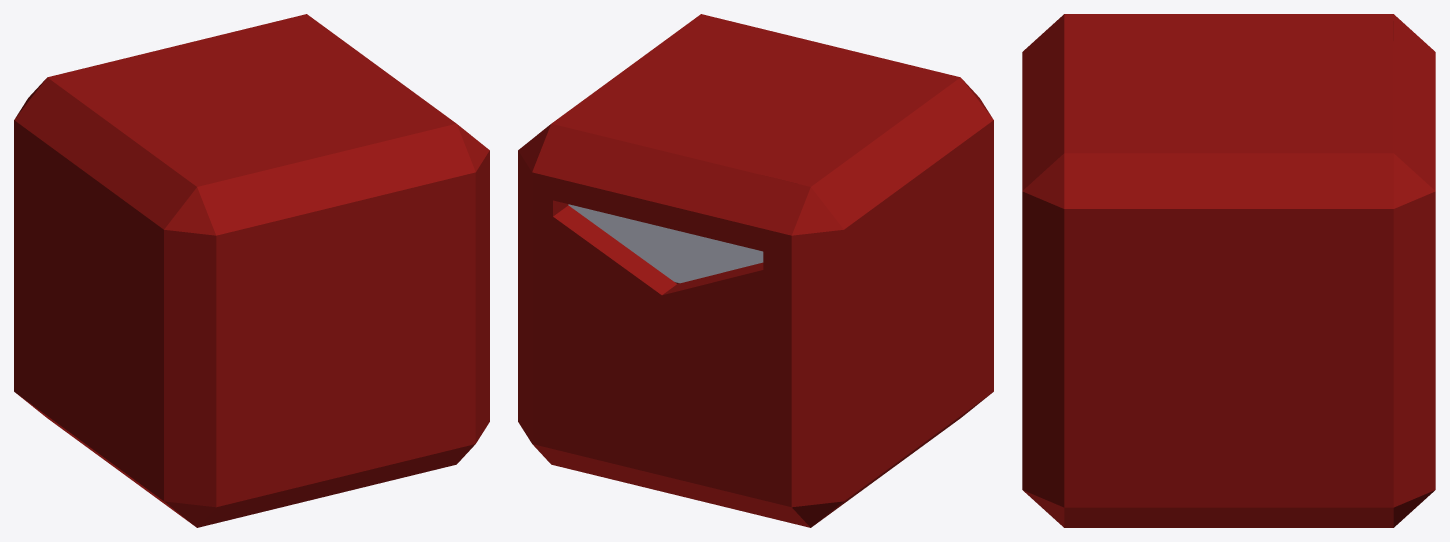
The model's file is redbox.glb.
The picture shows the model from 3 angles, left to right: view 1: azimuth 30°, elevation 25°; view 2: azimuth 150°, elevation 25°; view 3: azimuth 270°, elevation 25°; orthographic projection. The views are drawn at different scales.
Visible parts, largest first — view 1: Cube; view 2: Cube; view 3: Cube.
Boxes of the visible parts, bbox=[...] form: Cube: bbox=[14, 14, 489, 527]; Cube: bbox=[518, 14, 993, 527]; Cube: bbox=[1022, 14, 1435, 527].
Bounding box in the file's own units: 1.8 × 1.8 × 1.8.
1 material, 1 textured.
